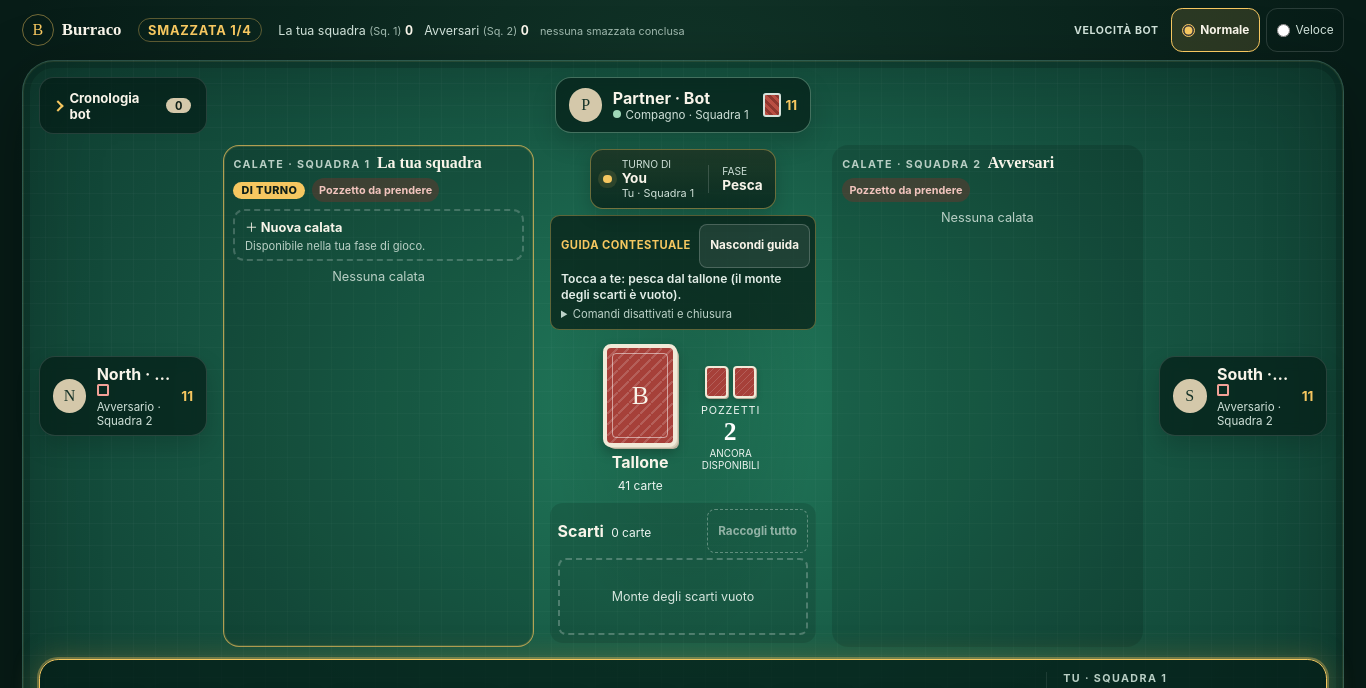
Test case: GameTable contextual coach (M36) › derives acquisition coaching from the actual pile controls and leaves them unchanged
This screenshot has width=1366, height=688.
Expected: the element "Guida contestuale" shows "pesca dal tallone (il monte degli scarti è vuoto)", [561,271,782,302]
Expected: the button with aria-label "Raccogli tutto il monte degli scarti" is disabled, [707,509,808,553]
Click the button with aria-label "Pesca dal tallone" at (640, 419), box [595,340,685,498]
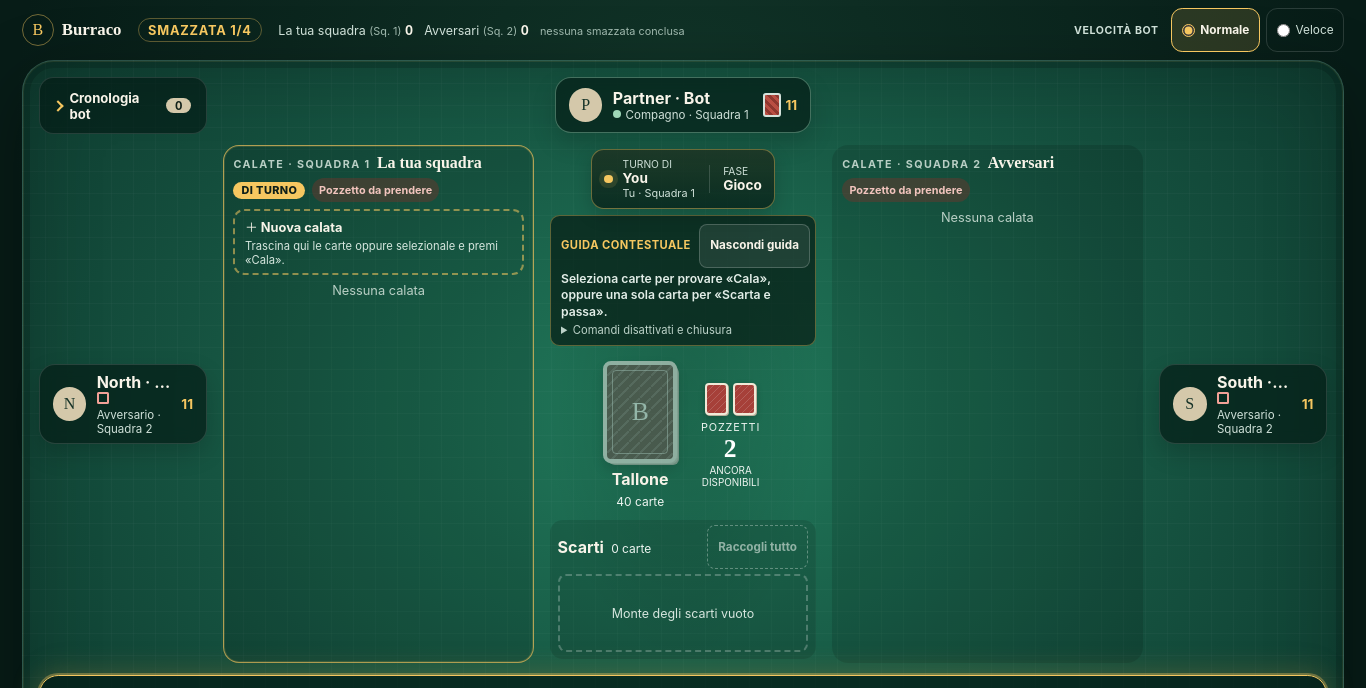
Expected: the element "Guida contestuale" shows "Seleziona carte per provare «Cala»", [561,271,771,319]
